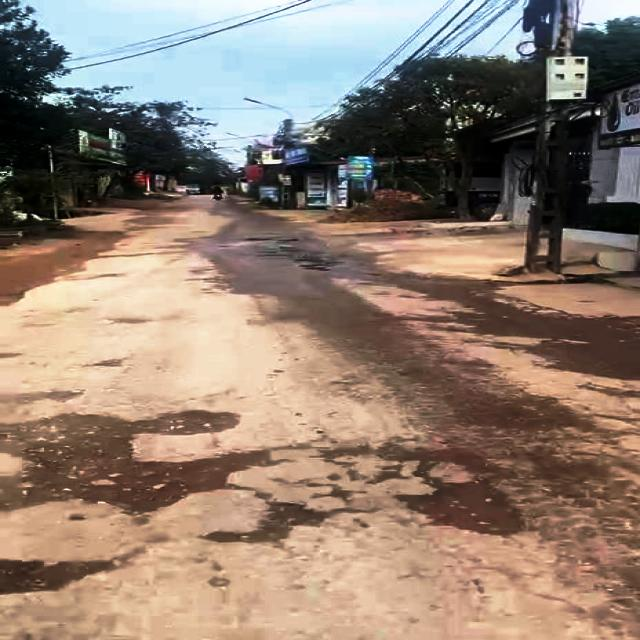pothole: (0, 408, 287, 514), (392, 473, 524, 544), (313, 441, 508, 485), (444, 385, 600, 438), (203, 495, 350, 548), (0, 553, 130, 602)
